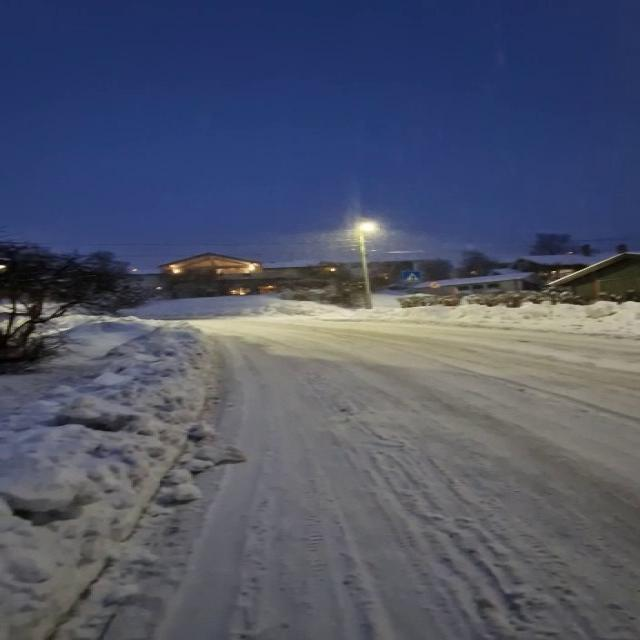path: (155, 318, 638, 640)
